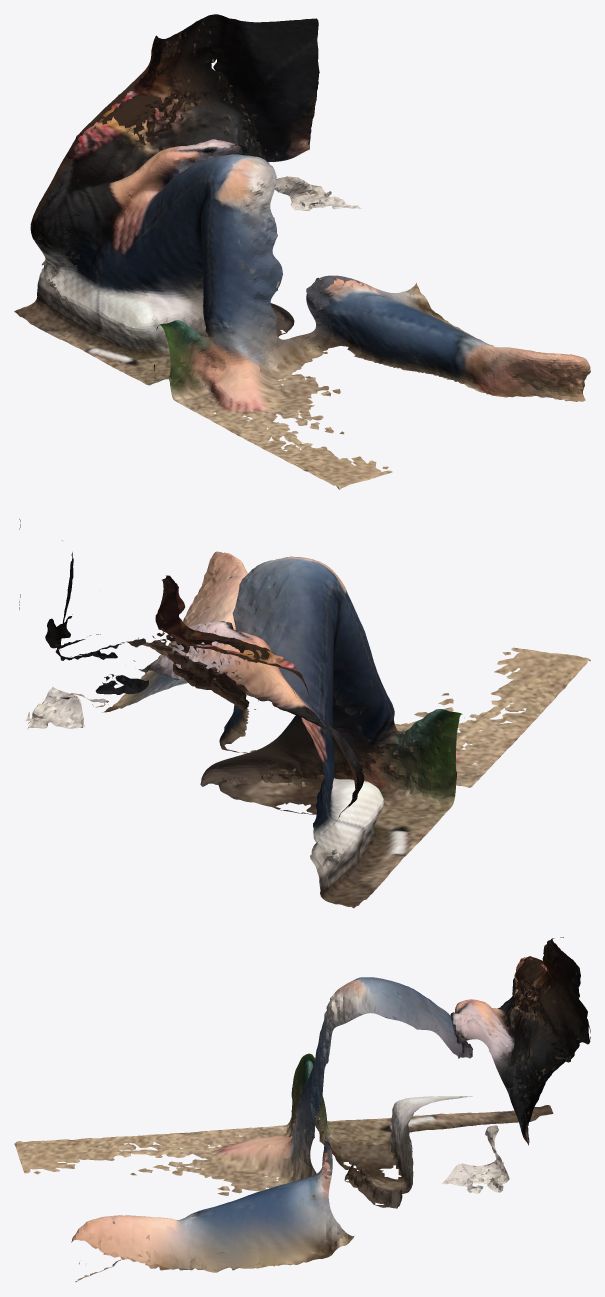
3 renders of one model, top to bottom at view 1: azimuth 30°, elevation 25°; view 2: azimuth 150°, elevation 25°; view 3: azimuth 270°, elevation 25°, orthographic. The views are drawn at different scales.
Size of the model in its own units: 0.8177 by 0.5449 by 1.15.
1 material, 1 textured.
